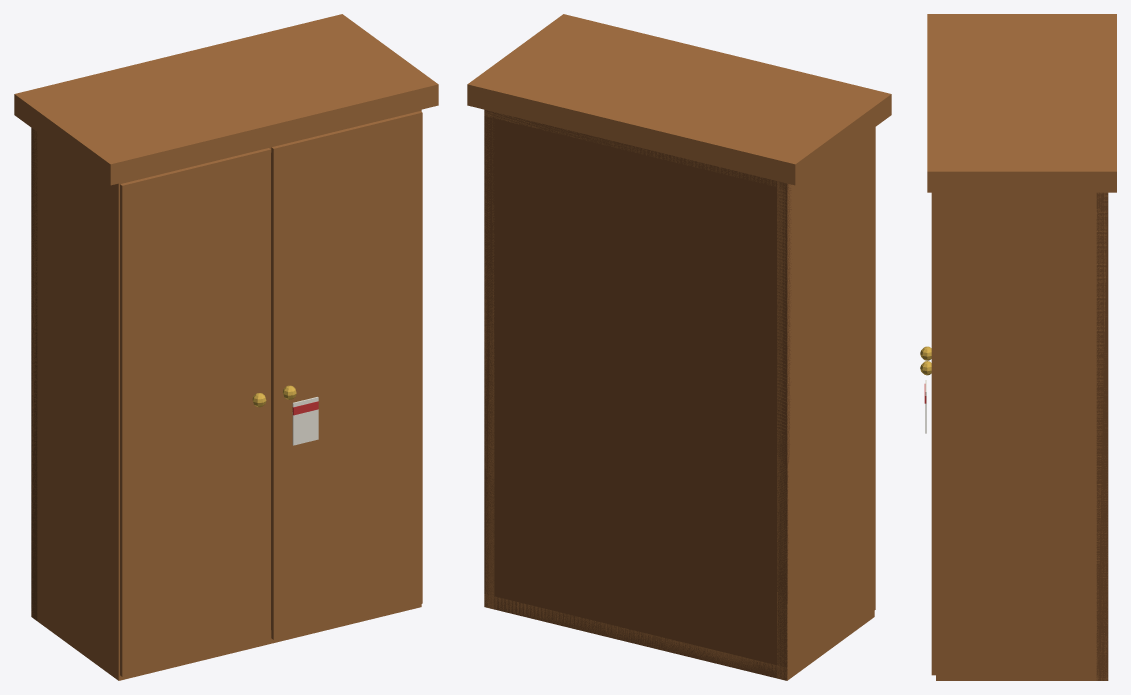
Rendered from closed_wardrobe.glb.
3 renders of one model, left to right at view 1: azimuth 30°, elevation 25°; view 2: azimuth 150°, elevation 25°; view 3: azimuth 270°, elevation 25°, orthographic.
Parts seen in each view (by area): view 1: door_wardrobe_wood, side_wardrobe_wood, crown_wardrobe_wood, back_wardrobe_inside, bottom_wardrobe_wood, card_hotel_card; view 2: back_wardrobe_inside, side_wardrobe_wood, crown_wardrobe_wood, bottom_wardrobe_wood, top_wardrobe_wood, door_wardrobe_wood; view 3: side_wardrobe_wood, crown_wardrobe_wood, back_wardrobe_inside, door_wardrobe_wood.
Boxes of the visible parts, box(x1,y1,x2,y2) form: door_wardrobe_wood: box(120, 111, 422, 676); side_wardrobe_wood: box(31, 110, 421, 680); crown_wardrobe_wood: box(14, 14, 438, 185); back_wardrobe_inside: box(31, 128, 37, 620); bottom_wardrobe_wood: box(31, 605, 421, 680); card_hotel_card: box(292, 397, 318, 445); back_wardrobe_inside: box(484, 109, 791, 680); side_wardrobe_wood: box(484, 110, 874, 680); crown_wardrobe_wood: box(467, 14, 891, 185); bottom_wardrobe_wood: box(484, 594, 874, 677); top_wardrobe_wood: box(484, 110, 790, 188); door_wardrobe_wood: box(874, 127, 875, 609); side_wardrobe_wood: box(936, 192, 1108, 680); crown_wardrobe_wood: box(927, 14, 1116, 192); back_wardrobe_inside: box(1096, 192, 1108, 680); door_wardrobe_wood: box(931, 192, 935, 675).
Size of the model in its own units: 1.3 by 1.98 by 0.685.
